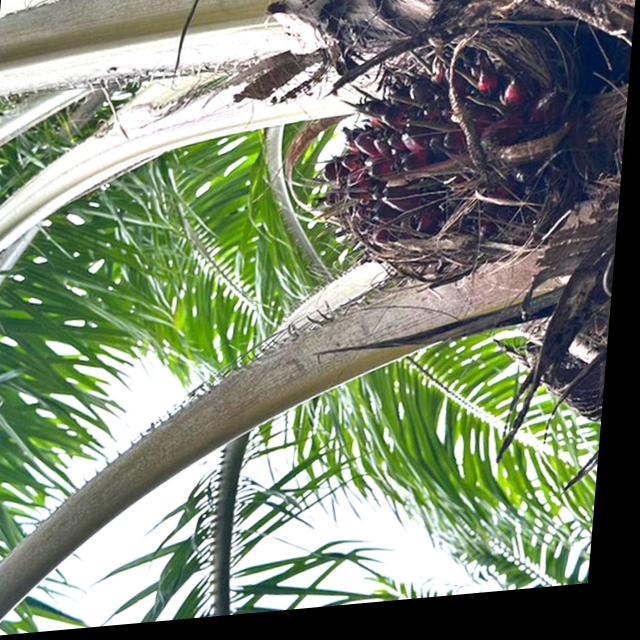ripe: (300, 36, 602, 310)
